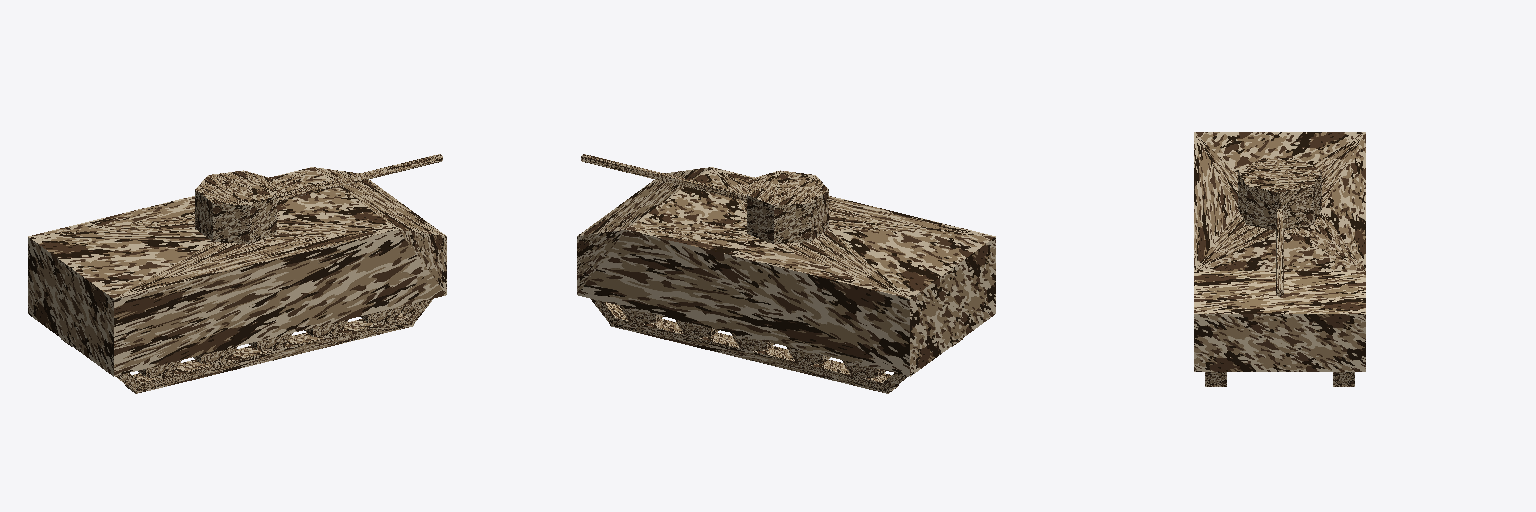
3 views of the same model, side by side, from view 1: azimuth 30°, elevation 25°; view 2: azimuth 150°, elevation 25°; view 3: azimuth 270°, elevation 25° (orthographic).
Parts seen in each view (by area): view 1: Av_Base; view 2: Av_Base; view 3: Av_Base.
Boxes of the visible parts, x1=… form: Av_Base: x1=28, y1=154, x2=446, y2=393; Av_Base: x1=577, y1=154, x2=995, y2=393; Av_Base: x1=1194, y1=132, x2=1365, y2=386.
Bounding box in the file's own units: 20 × 7.45 × 8.
1 materials, 1 textured.